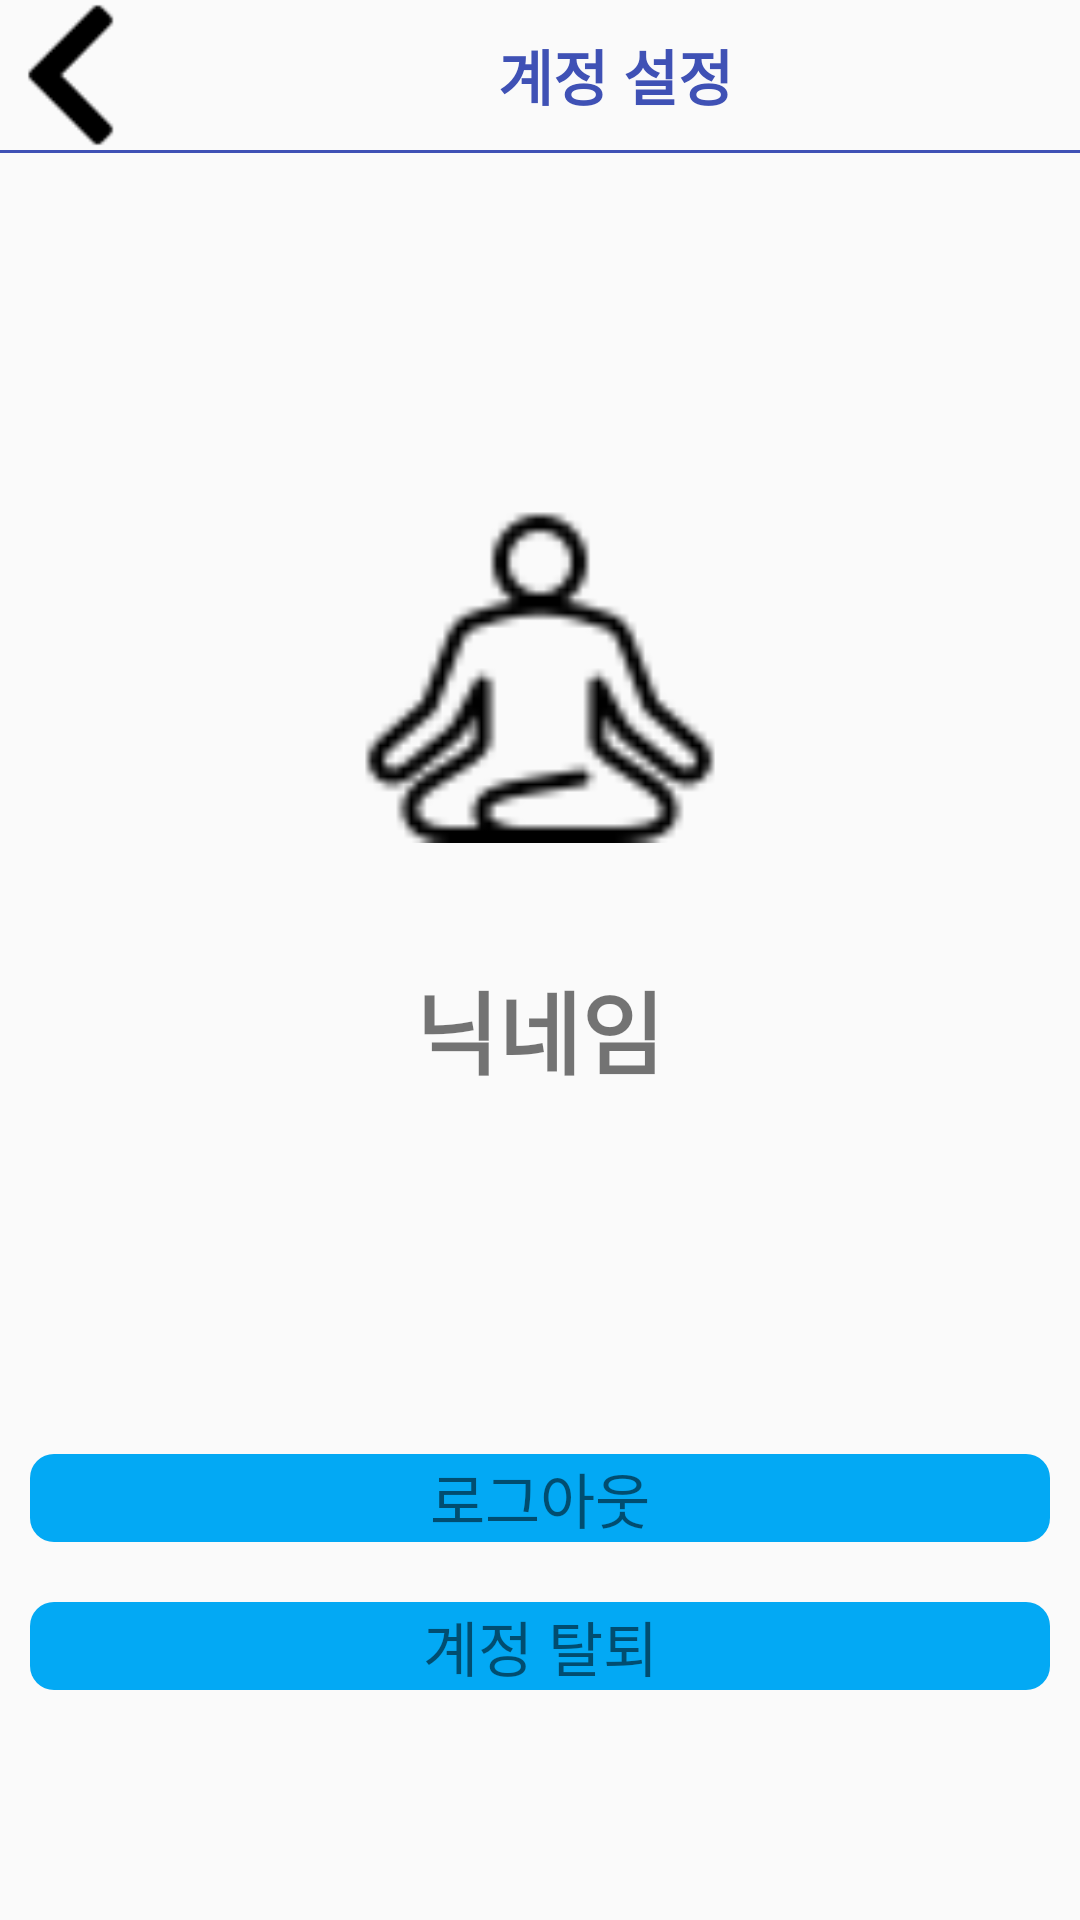

Where icons sit on this 1080×1920 app screen, as (x1, y1, x2, y2):
back: (28, 5, 114, 145)
